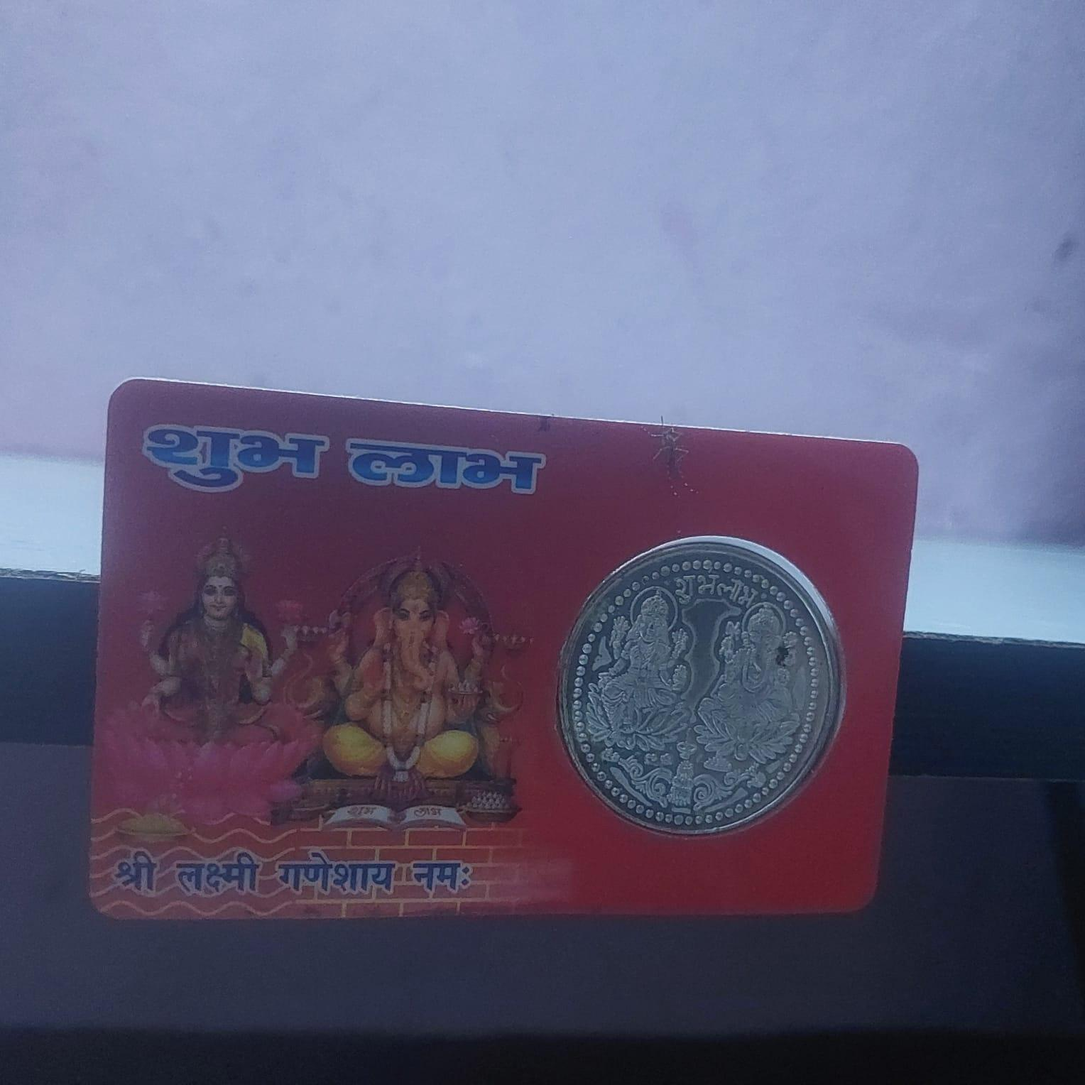blessing_card: (80, 374, 930, 924)
